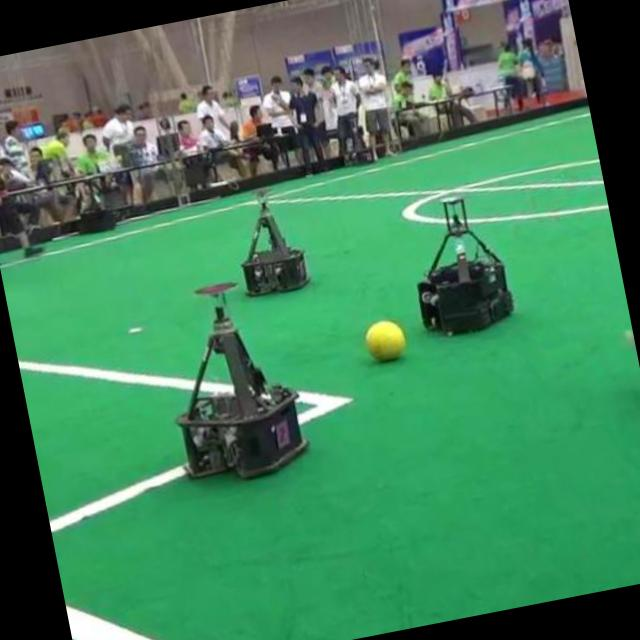ball: (364, 320, 405, 361)
robot: (176, 284, 306, 479), (417, 197, 511, 335), (241, 191, 307, 295), (78, 178, 114, 234)
